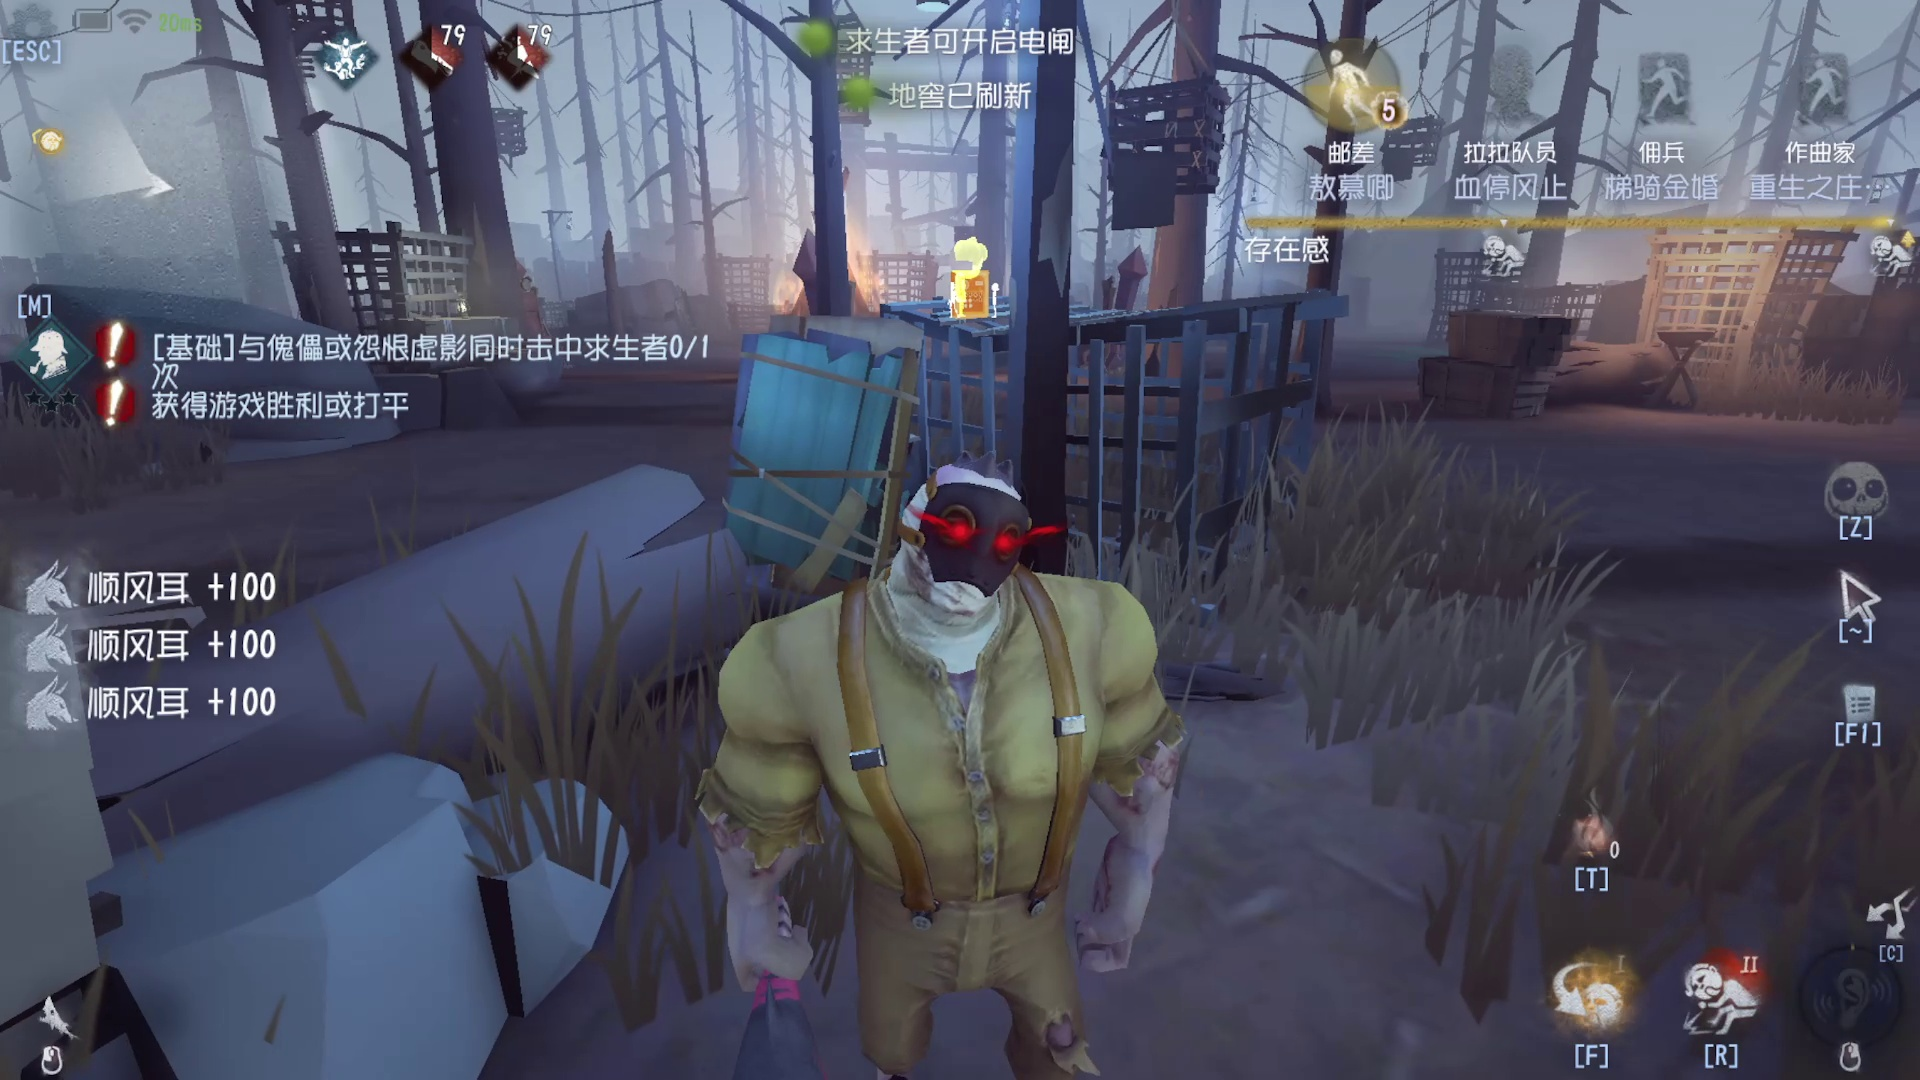技能: (1487, 764, 1663, 902)
木板: (686, 298, 918, 584)
狂欢之椅: (498, 255, 588, 401)
设置: (1, 1, 75, 90)
